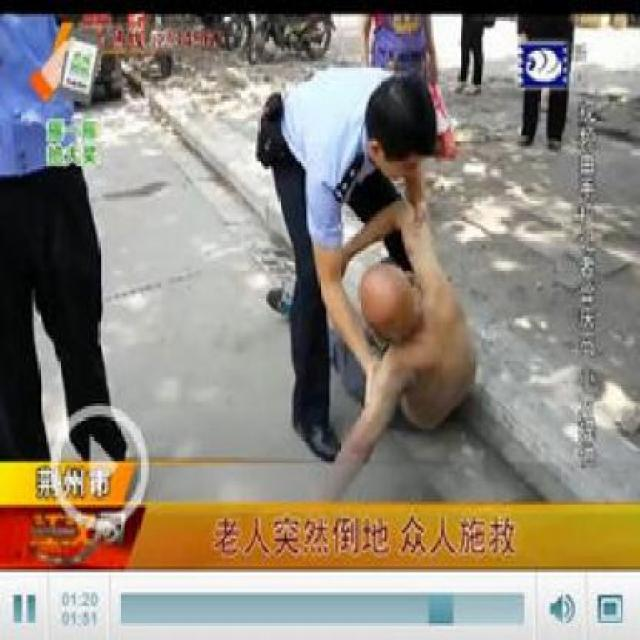fall: (324, 202, 491, 486)
